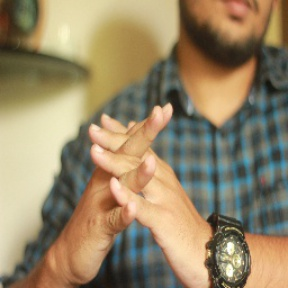W: (71, 93, 185, 244)
